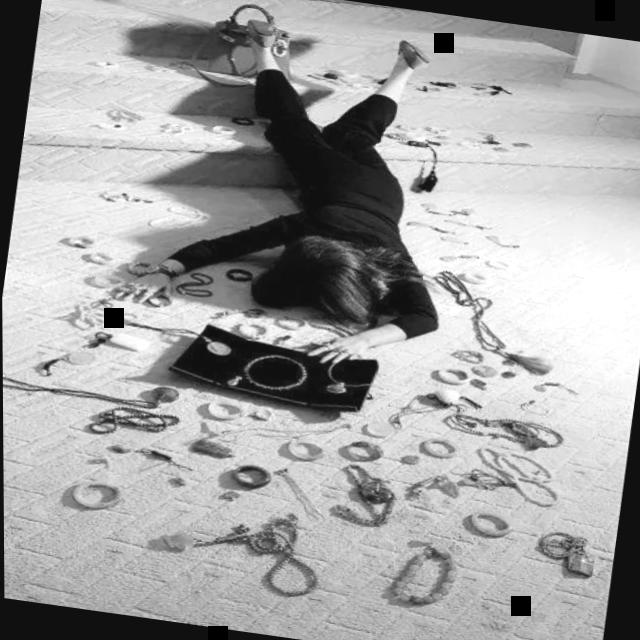Fall-Detected: (96, 0, 501, 385)
